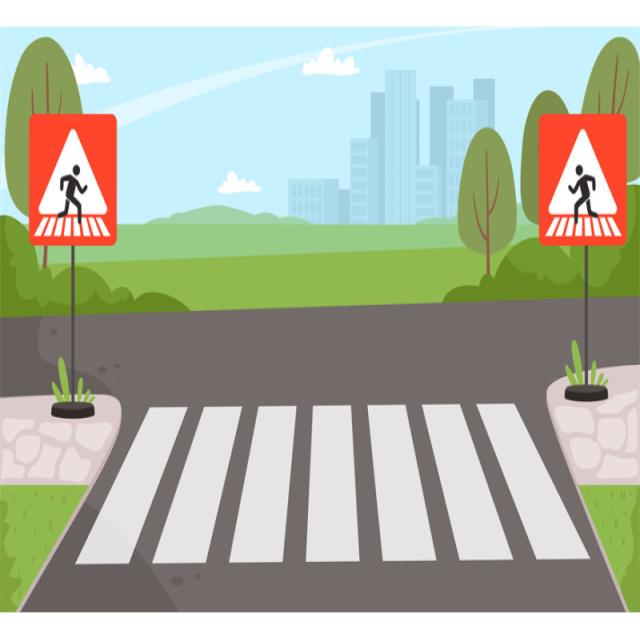road_crosswalk: (77, 401, 595, 564)
